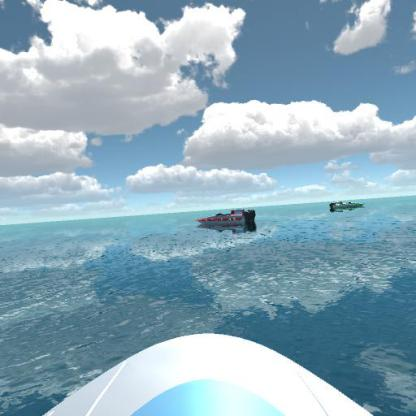usv0: (324, 196, 370, 215)
usv3: (194, 205, 262, 233)
